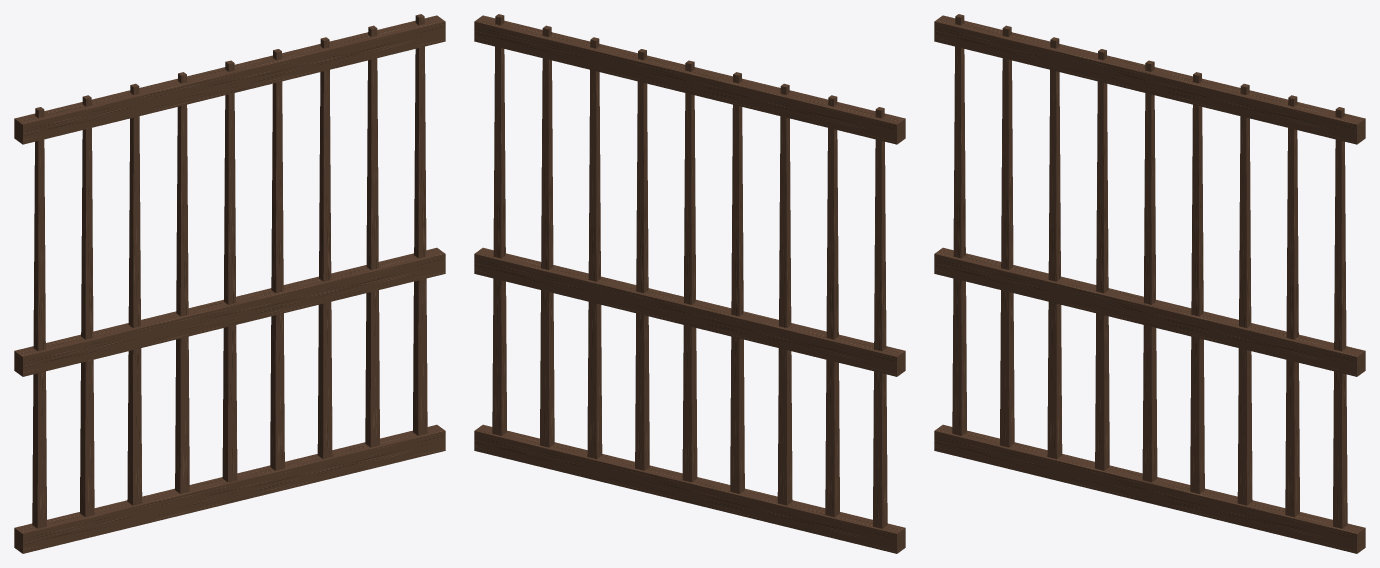
The model's file is grille.glb.
3 renders of one model, left to right at view 1: azimuth 30°, elevation 25°; view 2: azimuth 150°, elevation 25°; view 3: azimuth 330°, elevation 25°, orthographic.
Visible parts, largest first — view 1: grille; view 2: grille; view 3: grille.
Part boxes in pixels (x1,y1,x2,y2): grille: (14, 14, 445, 553); grille: (474, 14, 905, 553); grille: (934, 14, 1365, 553).
Bounding box in the file's own units: 4 × 3.95 × 0.14.
1 material, 1 textured.
